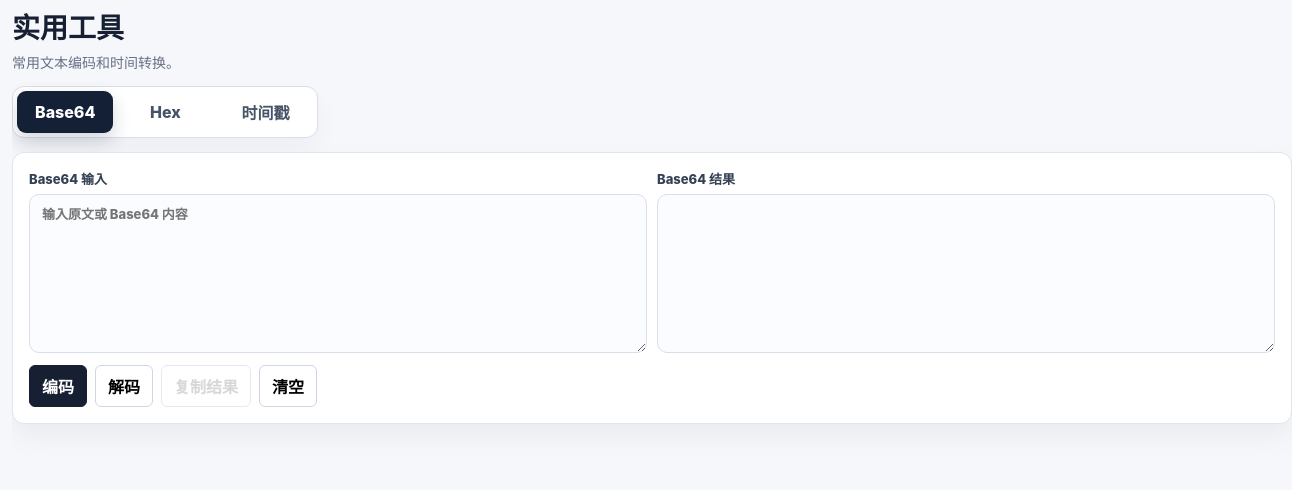
converts text to hex and validates invalid hex input
Click the tab "Hex". click: {"x": 165, "y": 112}
box: x1=117 y1=91 x2=213 y2=133
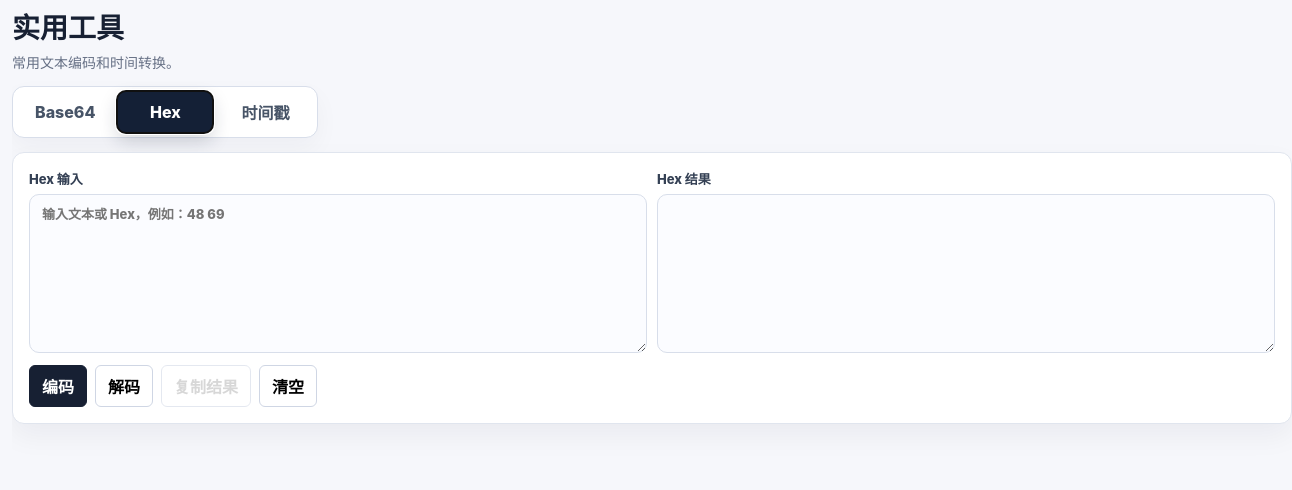
Type "Hi" into the text box labelled "Hex 输入". click: {"x": 338, "y": 273}
box: x1=29 y1=194 x2=647 y2=353
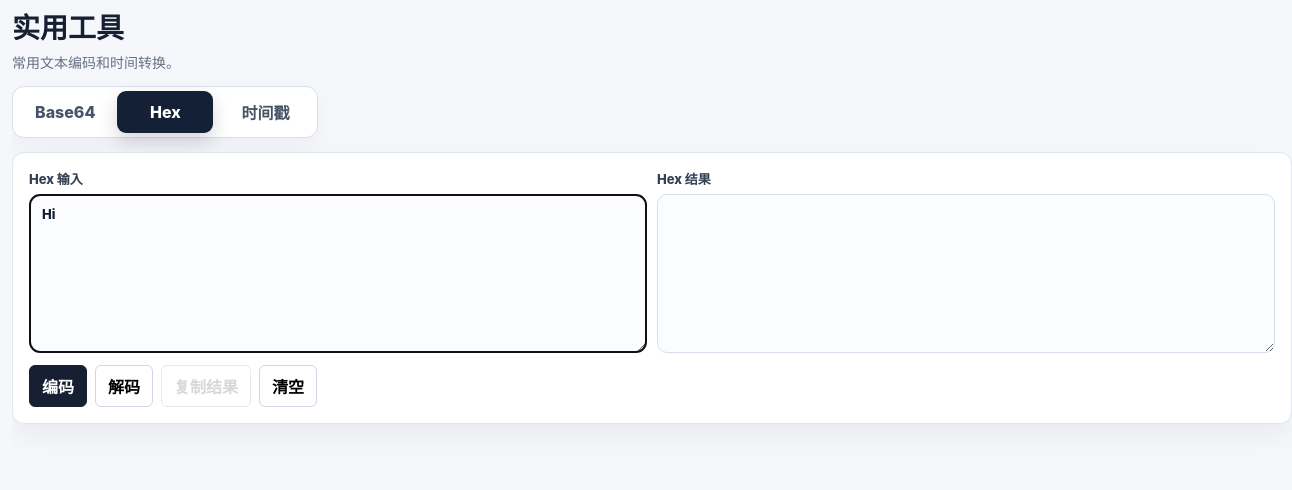
Click the button "编码". click: {"x": 58, "y": 386}
box: x1=29 y1=365 x2=87 y2=407
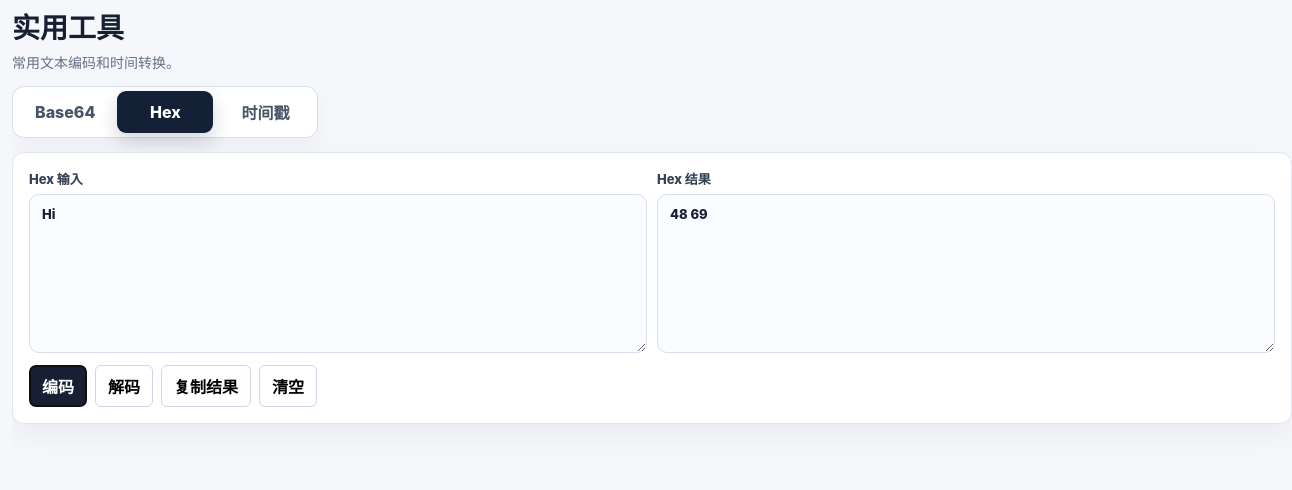
Expected: the text box labelled "Hex 结果" holds "48 69", x1=657 y1=194 x2=1275 y2=353
Replace the text in the text box labelled "Hex 输入" with "48 69". click: {"x": 338, "y": 273}
box: x1=29 y1=194 x2=647 y2=353
Click the button "解码". click: {"x": 124, "y": 386}
box: x1=95 y1=365 x2=153 y2=407
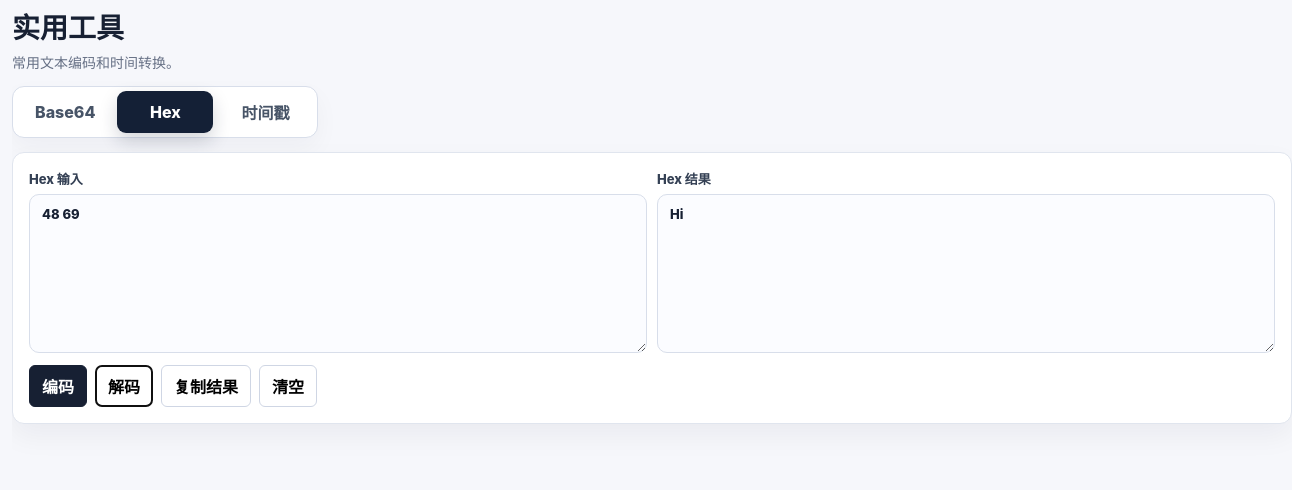
Expected: the text box labelled "Hex 结果" holds "Hi", x1=657 y1=194 x2=1275 y2=353
Replace the text in the text box labelled "Hex 输入" with "GG". click: {"x": 338, "y": 273}
box: x1=29 y1=194 x2=647 y2=353
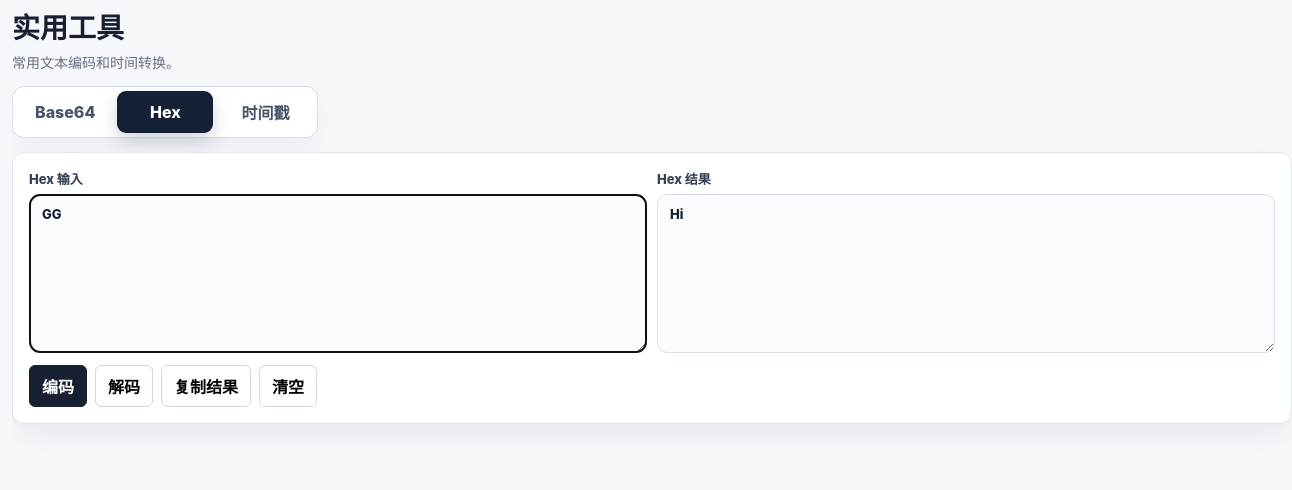
Click the button "解码". click: {"x": 124, "y": 386}
box: x1=95 y1=365 x2=153 y2=407
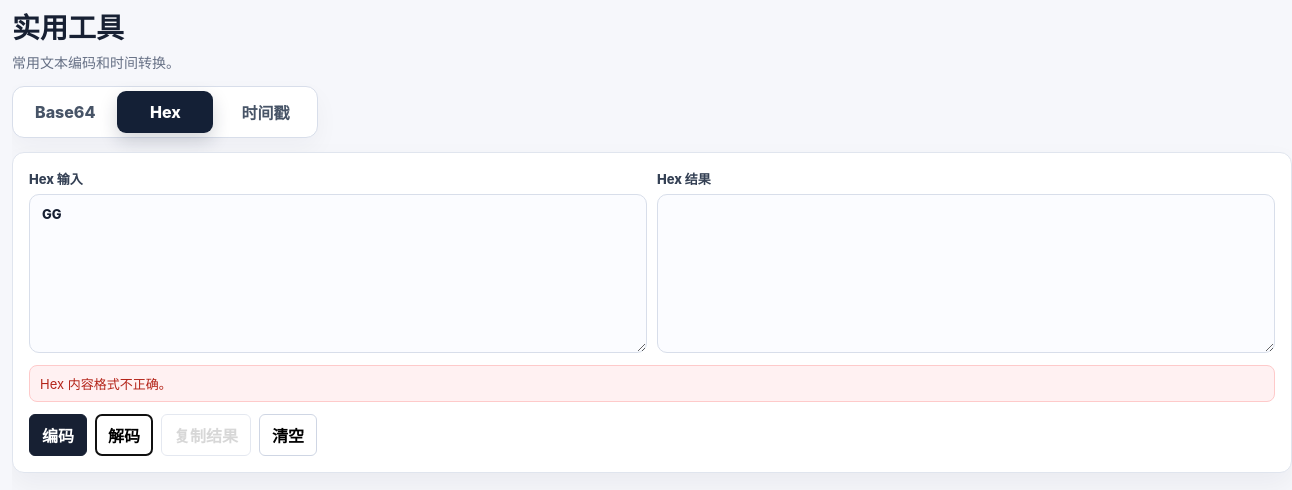
Expected: the text "Hex 内容格式不正确。" is shown, x1=29 y1=365 x2=1275 y2=402
